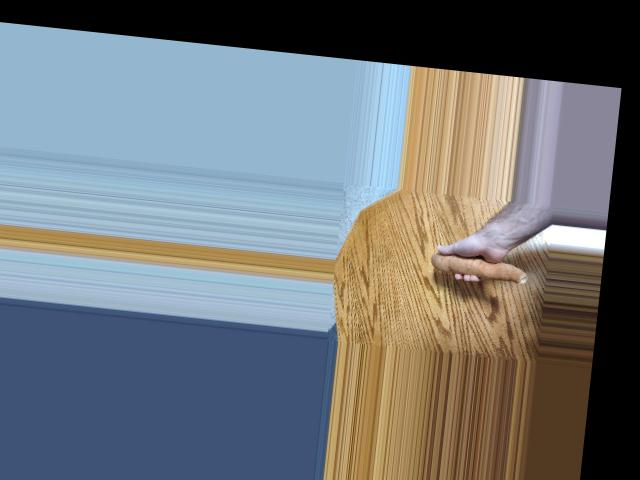sweet_potato: (433, 244, 531, 283)
